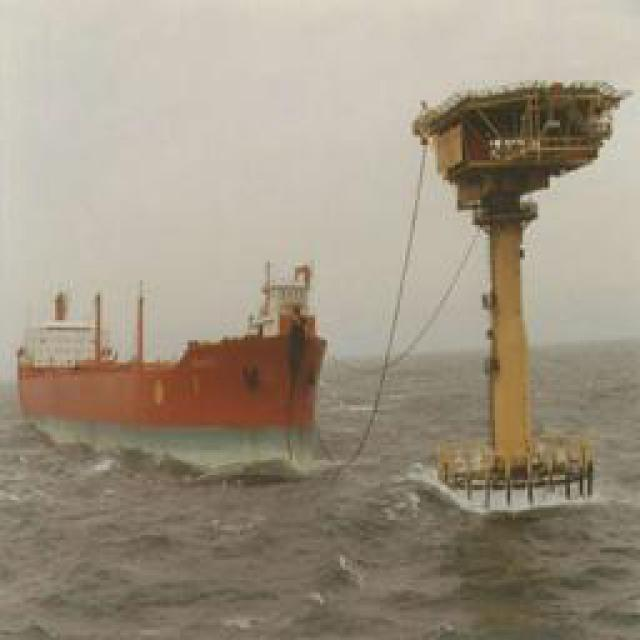Ship: (16, 253, 329, 468)
